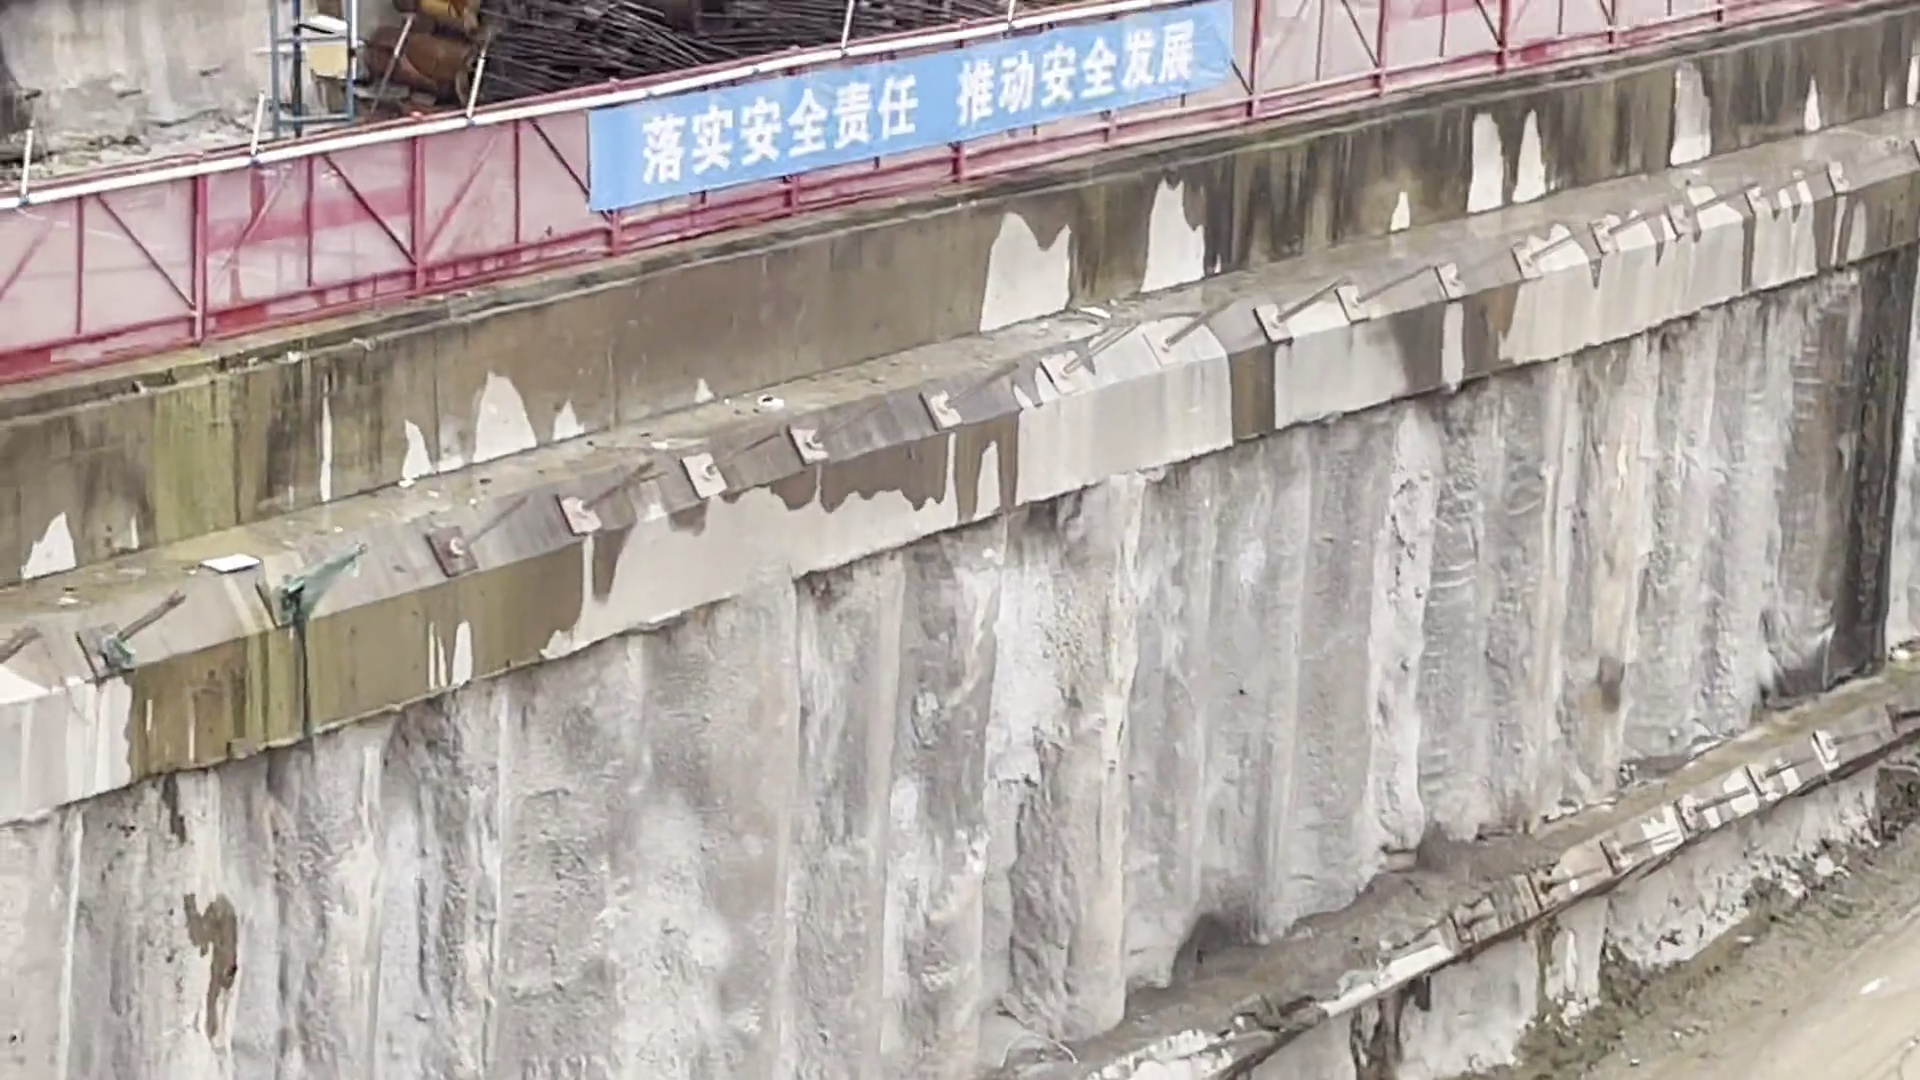fence: (1, 1, 1902, 411)
slogan: (603, 16, 1224, 195)
